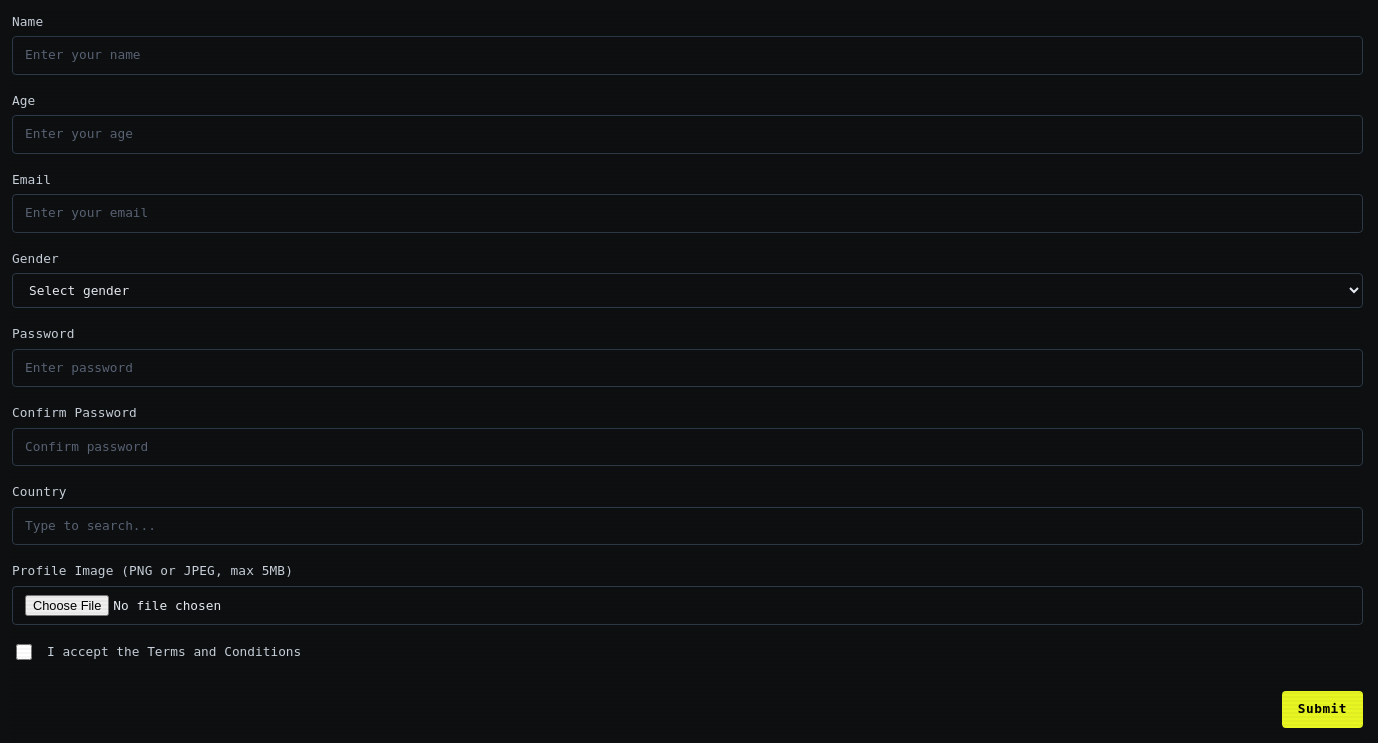
it: UncontrolledForm › shows error for invalid email on submit
Type "not-an-email" into the field labelled "Email".
click(688, 214); type("not-an-email")  # box [12, 194, 1363, 233]
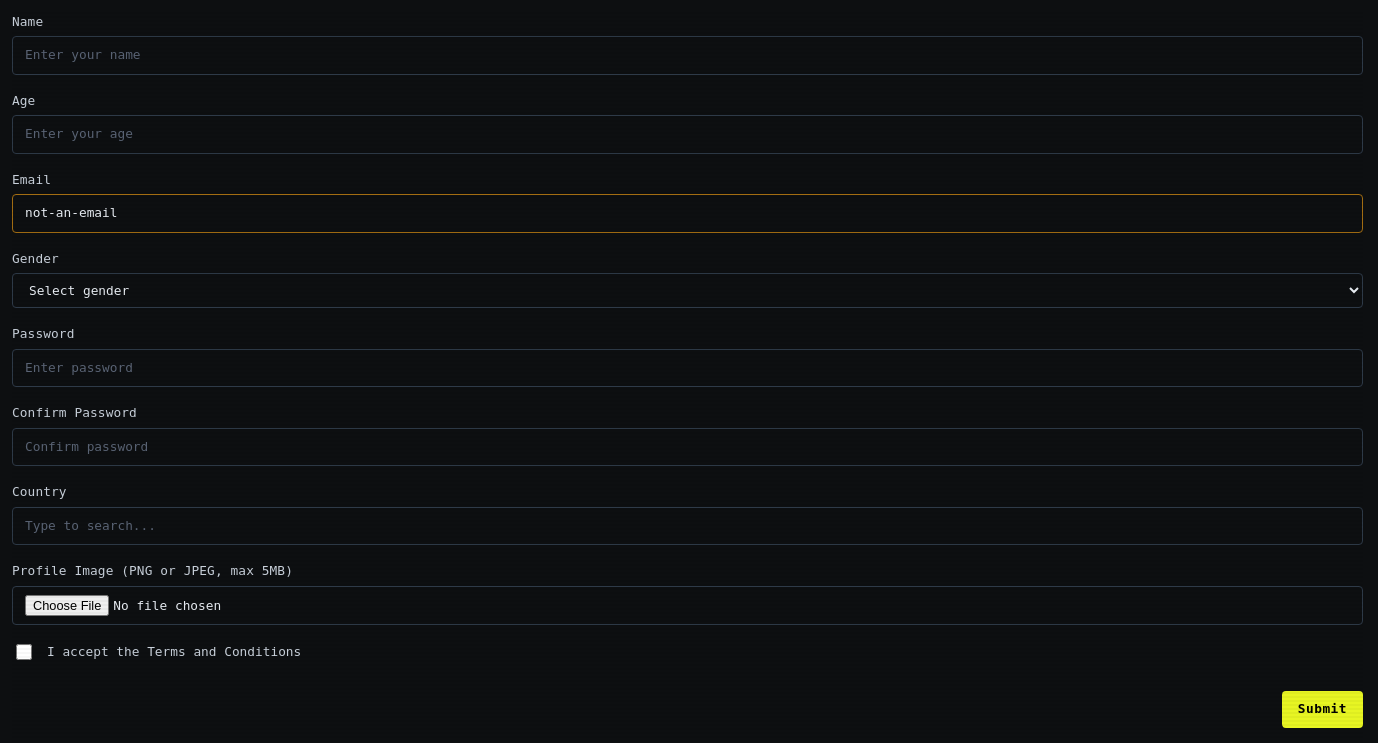
Click the button "Submit".
click(1322, 709)  # box [1282, 691, 1363, 728]
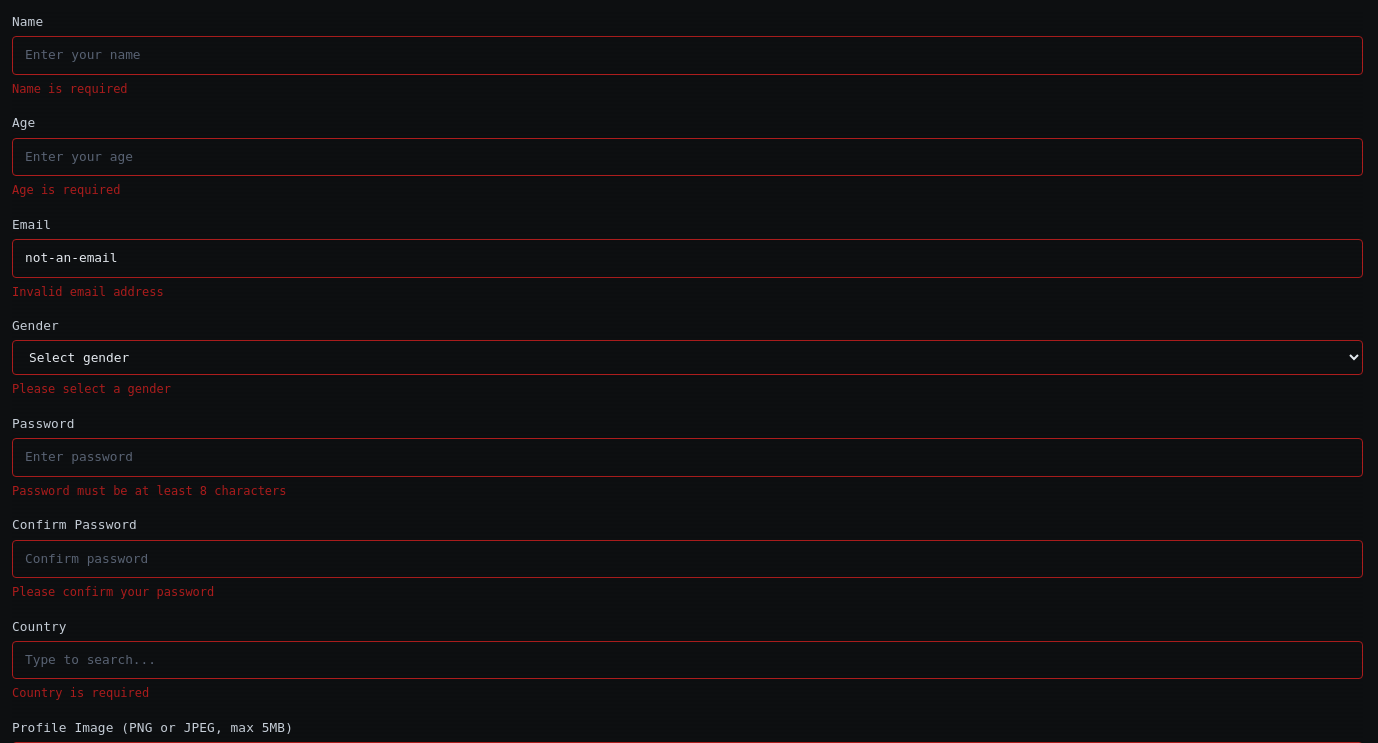
Expected: the text "Invalid email address" is shown, [12, 285, 164, 299]
